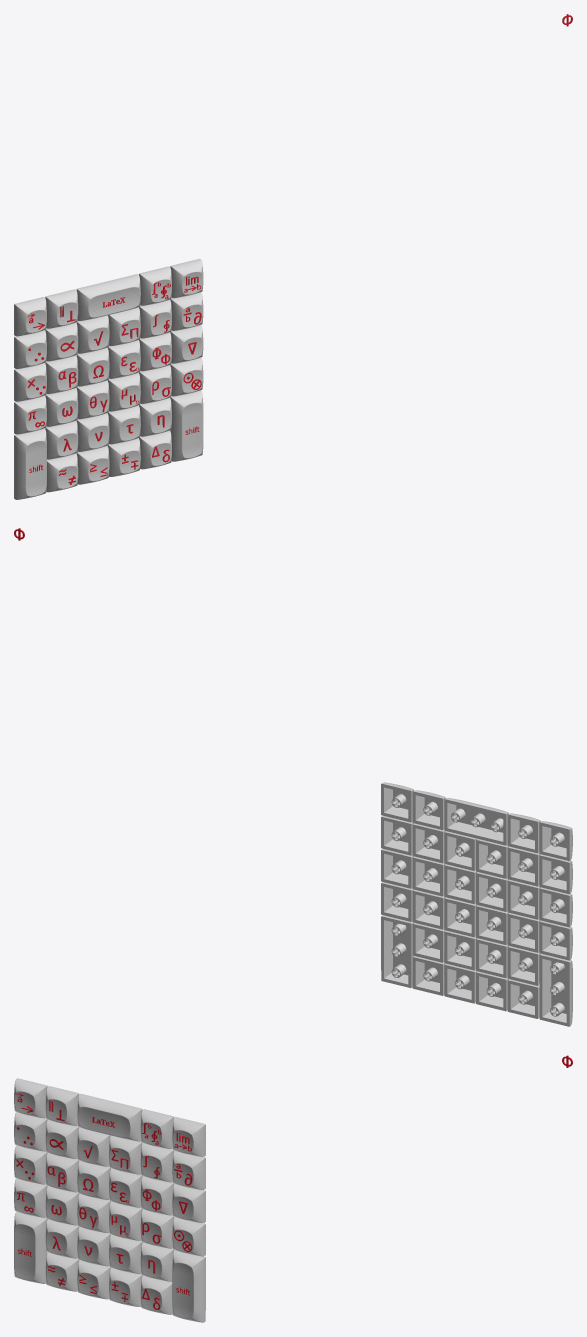
Rendered from tinker.obj.
3 views of the same model, one above another, from view 1: azimuth 30°, elevation 25°; view 2: azimuth 150°, elevation 25°; view 3: azimuth 330°, elevation 25° (orthographic).
Parts seen in each view (by area): view 1: obj_45, obj_44, obj_46, obj_14, obj_18, obj_15, obj_30, obj_24, obj_17, obj_38, obj_37, obj_16 (+21 smaller); view 2: obj_44, obj_45, obj_46, obj_14, obj_15, obj_16, obj_18, obj_24, obj_30, obj_17, obj_43, obj_31 (+21 smaller); view 3: obj_46, obj_45, obj_44, obj_17, obj_15, obj_14, obj_29, obj_23, obj_16, obj_18, obj_38, obj_39 (+21 smaller).
Boxes of the visible parts, x1,y1,x2,y2 form: obj_45: (76, 274, 140, 320); obj_44: (14, 428, 46, 499); obj_46: (170, 390, 203, 461); obj_14: (14, 297, 46, 336); obj_18: (14, 330, 46, 368); obj_15: (45, 289, 78, 328); obj_30: (14, 395, 46, 434); obj_24: (14, 363, 46, 401); obj_17: (170, 258, 203, 298); obj_38: (107, 405, 140, 444); obj_37: (76, 413, 109, 451); obj_16: (139, 266, 171, 305); obj_44: (539, 954, 572, 1026); obj_45: (444, 798, 508, 845); obj_46: (381, 915, 413, 987); obj_14: (539, 821, 572, 860); obj_15: (507, 813, 540, 853); obj_16: (412, 790, 445, 830); obj_18: (539, 854, 572, 894); obj_24: (539, 887, 572, 927); obj_30: (539, 920, 572, 960); obj_17: (381, 782, 413, 822); obj_43: (412, 956, 445, 995); obj_31: (507, 913, 540, 952); obj_46: (172, 1250, 205, 1322); obj_45: (77, 1093, 142, 1141); obj_44: (14, 1211, 47, 1283); obj_17: (172, 1117, 205, 1156); obj_15: (45, 1086, 79, 1125); obj_14: (14, 1078, 47, 1118); obj_29: (172, 1184, 205, 1222); obj_23: (172, 1151, 205, 1189); obj_16: (140, 1109, 174, 1148); obj_18: (14, 1112, 47, 1151); obj_38: (109, 1234, 142, 1273); obj_39: (140, 1242, 174, 1281).
Bounding box in the file's own units: 337 × 206 × 7.91.
